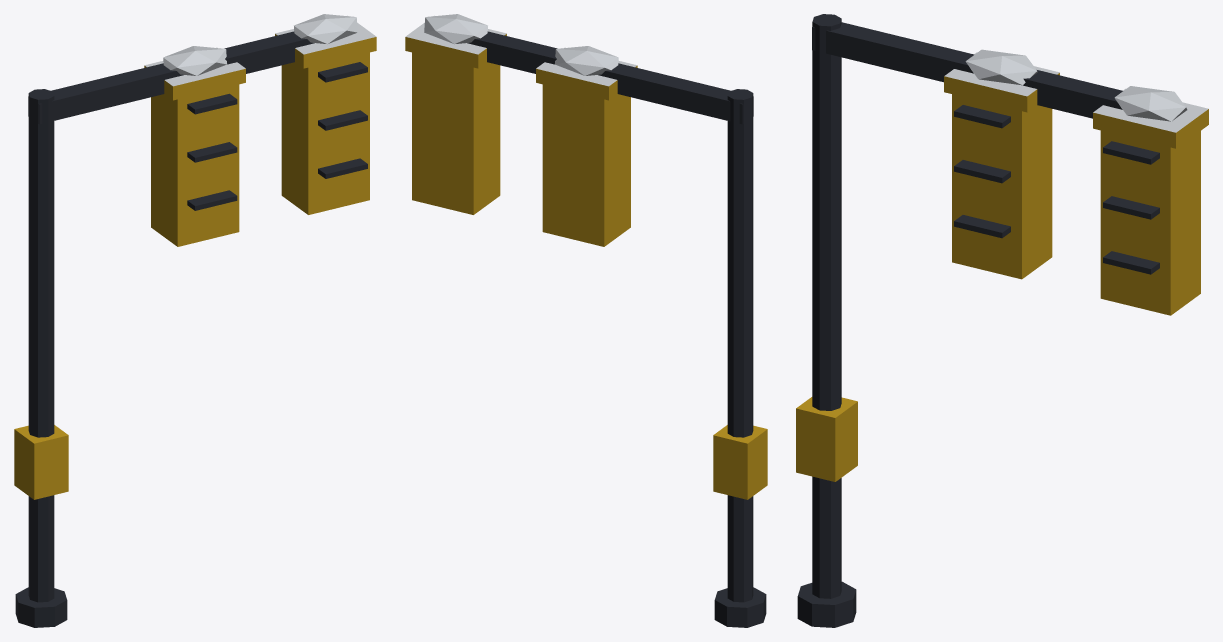
File: TrafficLight_Pole.glb
The picture shows the model from 3 angles, left to right: view 1: azimuth 30°, elevation 25°; view 2: azimuth 150°, elevation 25°; view 3: azimuth 330°, elevation 25°; orthographic projection. The views are drawn at different scales.
Visible parts, largest first — view 1: TrafficLight_Pole; view 2: TrafficLight_Pole; view 3: TrafficLight_Pole.
Part boxes in pixels (x1,y1,x2,y2): TrafficLight_Pole: [14, 14, 376, 627]; TrafficLight_Pole: [405, 14, 767, 627]; TrafficLight_Pole: [796, 14, 1208, 627].
Size of the model in its own units: 8.95 by 13.15 by 1.6.
